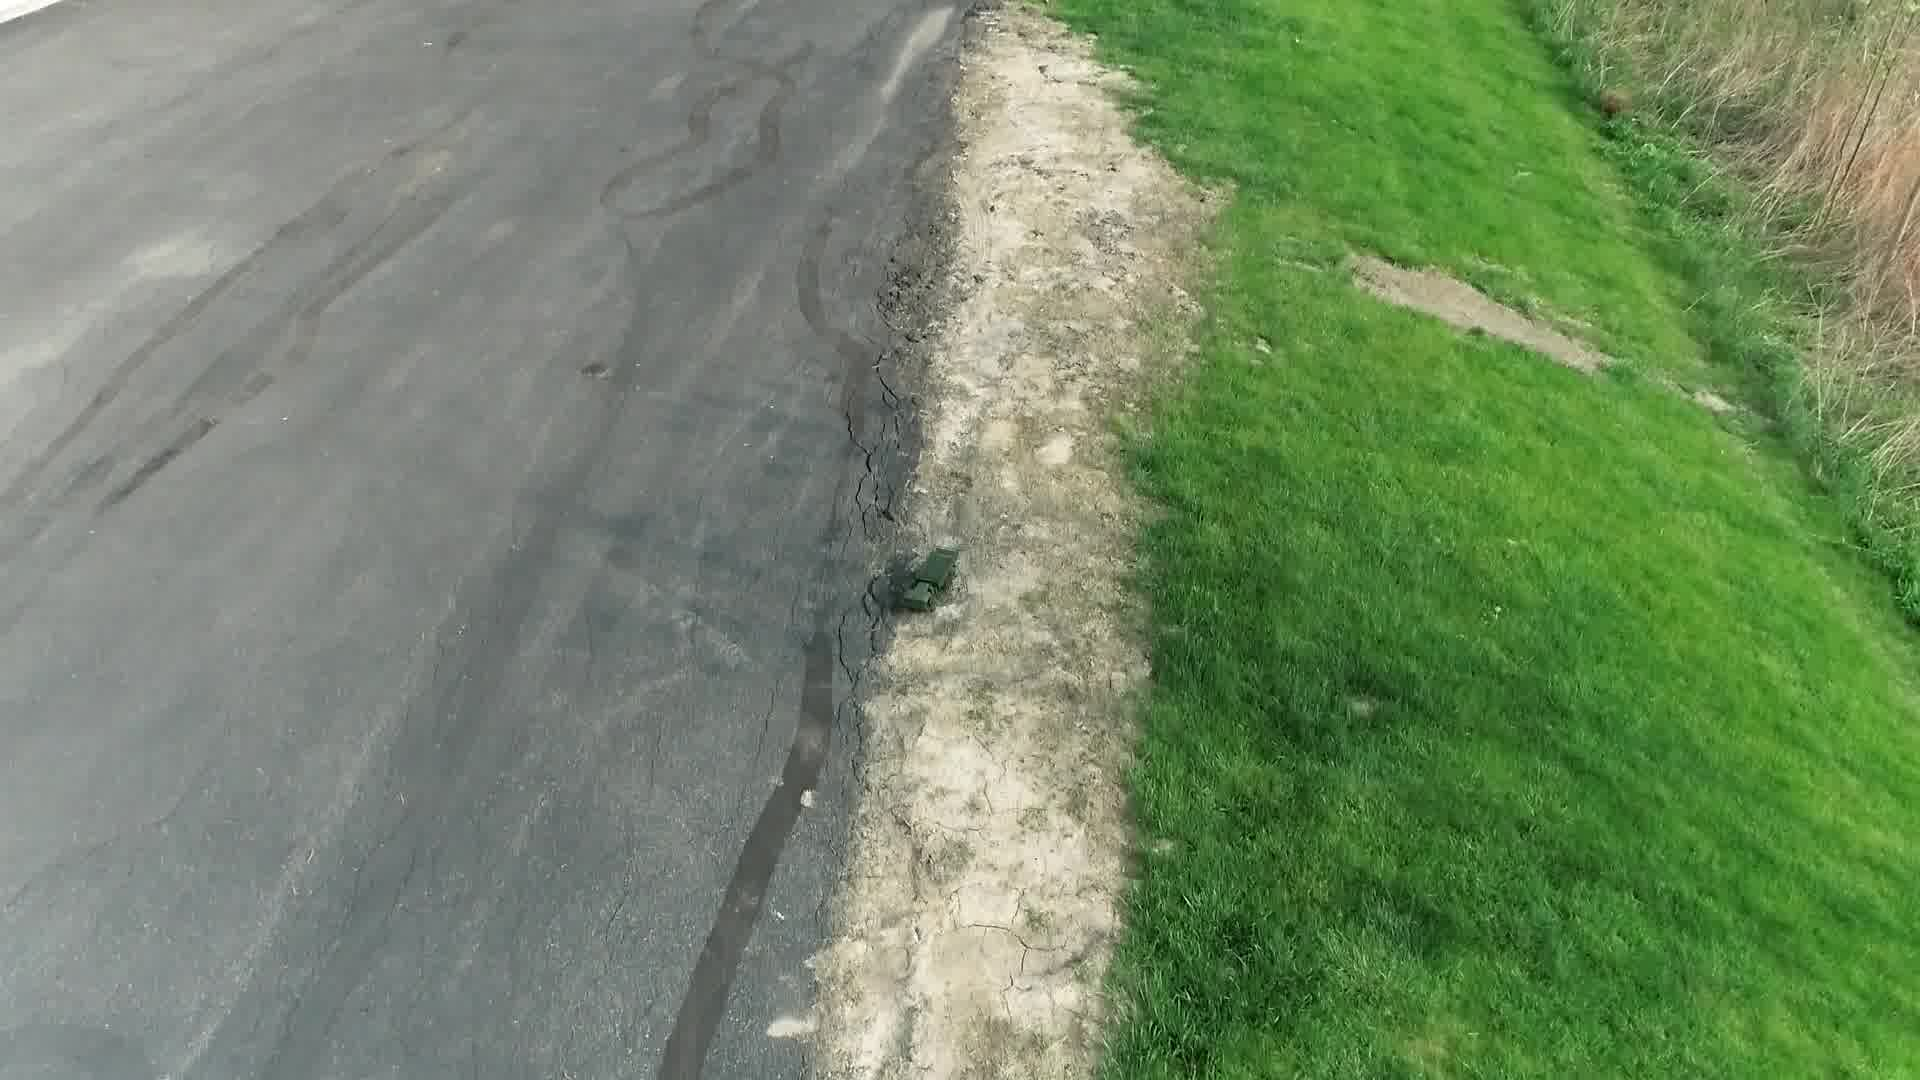transporter9: (897, 545, 965, 615)
